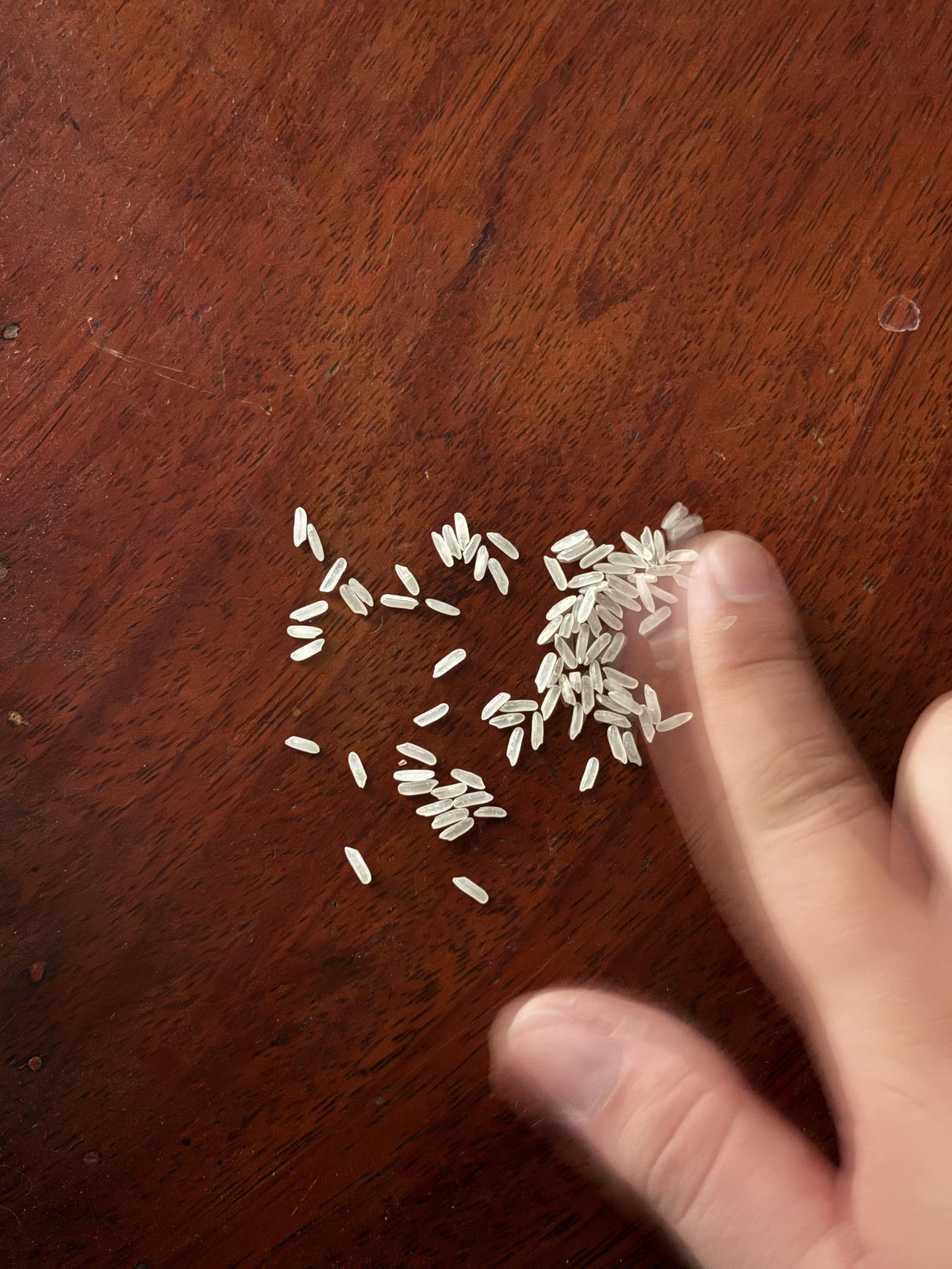Rice-th-y-nh: (344, 846, 372, 884), (582, 632, 612, 666), (433, 648, 466, 678), (641, 685, 664, 727), (452, 877, 489, 903), (604, 587, 641, 613), (621, 531, 653, 561), (638, 606, 671, 635), (607, 691, 644, 716), (397, 742, 436, 765), (601, 632, 628, 665), (320, 558, 346, 592), (605, 726, 628, 764), (432, 807, 469, 830), (557, 538, 594, 561), (656, 710, 693, 733), (580, 544, 614, 569), (480, 692, 510, 720), (543, 556, 567, 591), (603, 665, 638, 689), (488, 532, 519, 559), (552, 529, 588, 552), (535, 653, 556, 692), (577, 675, 598, 714), (396, 778, 439, 797), (340, 585, 367, 615), (635, 574, 656, 612), (594, 709, 632, 730), (605, 574, 638, 598), (595, 693, 631, 715), (668, 515, 702, 538), (594, 593, 624, 619), (505, 727, 525, 766), (431, 532, 453, 567), (439, 818, 474, 840), (488, 558, 509, 594), (546, 595, 576, 620), (291, 639, 325, 661), (415, 704, 449, 726), (451, 768, 485, 790), (291, 601, 328, 621), (622, 731, 643, 766), (537, 617, 563, 645), (349, 578, 374, 607), (395, 565, 419, 595), (452, 790, 492, 808), (540, 685, 561, 719), (556, 635, 577, 669), (637, 705, 656, 742), (596, 605, 624, 630), (347, 752, 367, 787), (417, 798, 453, 817), (442, 525, 462, 559), (580, 757, 600, 791), (306, 524, 324, 561), (432, 782, 467, 801), (609, 551, 648, 568), (575, 623, 591, 664), (577, 588, 596, 622), (472, 547, 490, 581), (649, 584, 678, 605), (661, 503, 684, 529), (426, 599, 461, 616), (285, 736, 320, 753), (568, 571, 603, 588), (558, 674, 577, 705), (489, 712, 525, 728), (394, 768, 434, 782), (646, 562, 681, 578), (293, 507, 307, 547), (568, 704, 584, 739), (651, 531, 667, 564), (588, 661, 605, 692), (463, 534, 481, 563), (381, 595, 418, 609), (502, 699, 538, 713), (455, 513, 469, 549), (594, 563, 632, 576), (531, 712, 544, 750), (287, 625, 322, 639), (666, 549, 698, 564), (587, 610, 603, 638), (640, 527, 654, 556), (474, 806, 507, 817), (603, 678, 624, 694), (568, 671, 583, 693), (559, 615, 573, 638), (582, 581, 608, 593), (634, 572, 657, 584)
